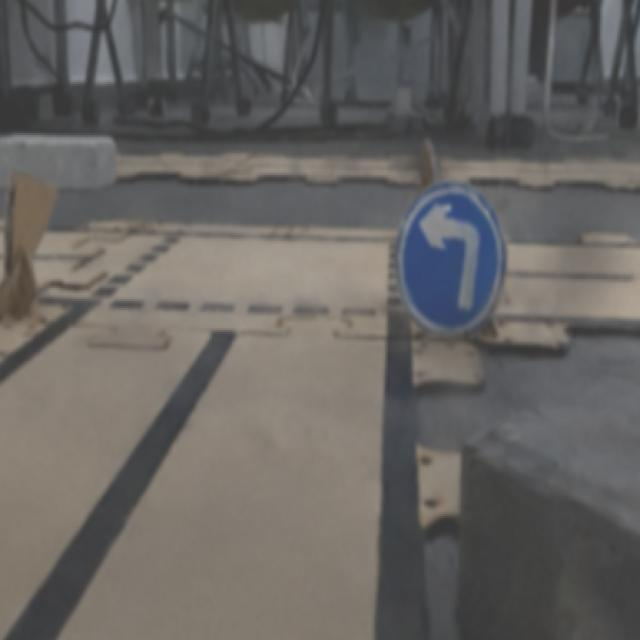LEFT: (395, 182, 504, 334)
